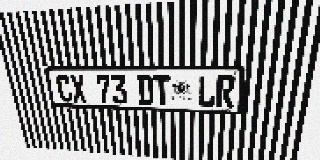3: (110, 75, 128, 104)
7: (95, 75, 113, 104)
C: (55, 75, 73, 102)
D: (137, 75, 154, 105)
L: (198, 75, 216, 107)
R: (216, 75, 236, 108)
T: (153, 75, 170, 106)
X: (69, 75, 87, 103)
